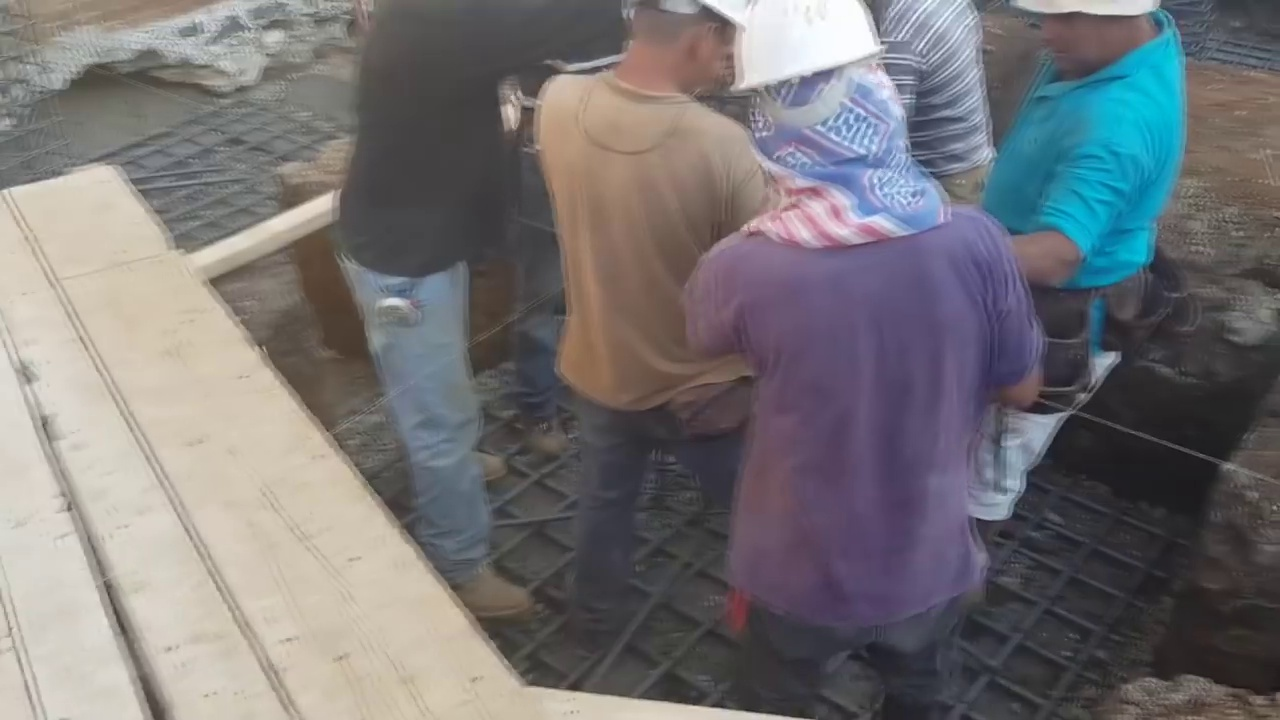helmet: (728, 4, 887, 98)
helmet-off: (1038, 0, 1158, 68)
helmet-on: (734, 3, 916, 215), (607, 3, 739, 118)
person: (599, 8, 1044, 712), (339, 0, 560, 615), (959, 0, 1188, 484), (866, 0, 993, 214)
